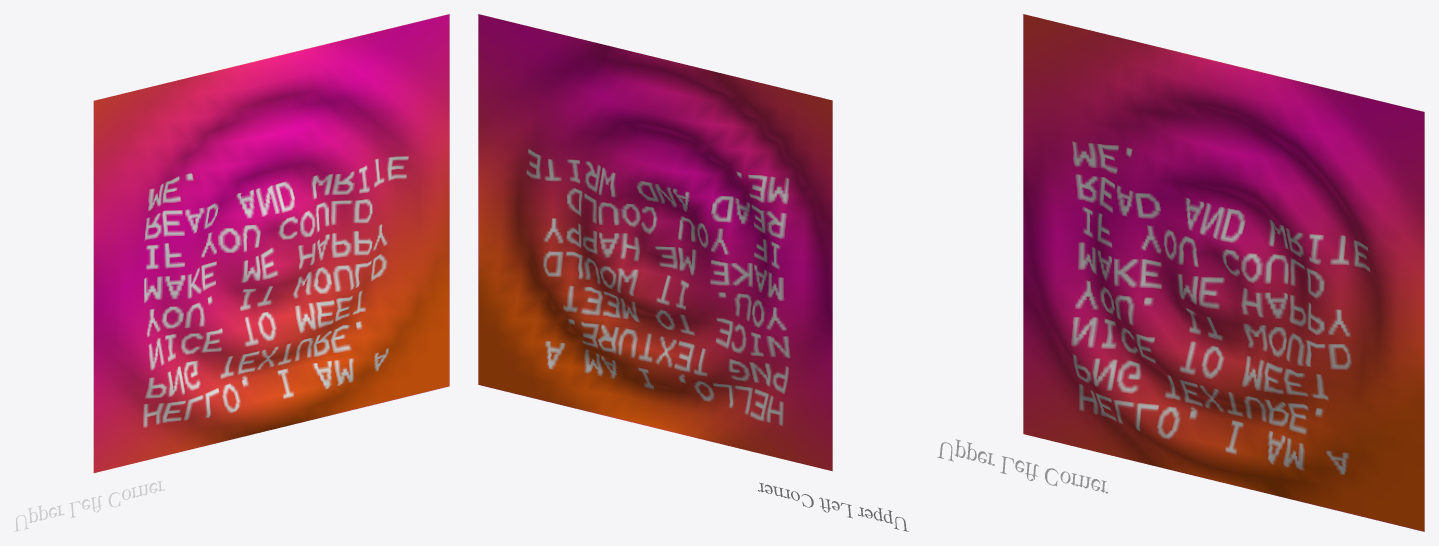
Rendered from simple_010_TextureFormats-PNG_02.dae.
The picture shows the model from 3 angles, left to right: view 1: azimuth 30°, elevation 25°; view 2: azimuth 150°, elevation 25°; view 3: azimuth 330°, elevation 25°; orthographic projection. The views are drawn at different scales.
Visible parts, largest first — view 1: pPlane1; view 2: pPlane1; view 3: pPlane1.
Boxes of the visible parts, left/top/right/bottom form: pPlane1: left=93, top=14, right=449, bottom=472; pPlane1: left=478, top=14, right=832, bottom=471; pPlane1: left=1023, top=14, right=1424, bottom=531.
Size of the model in its own units: 18.83 by 0.7874 by 17.17.
